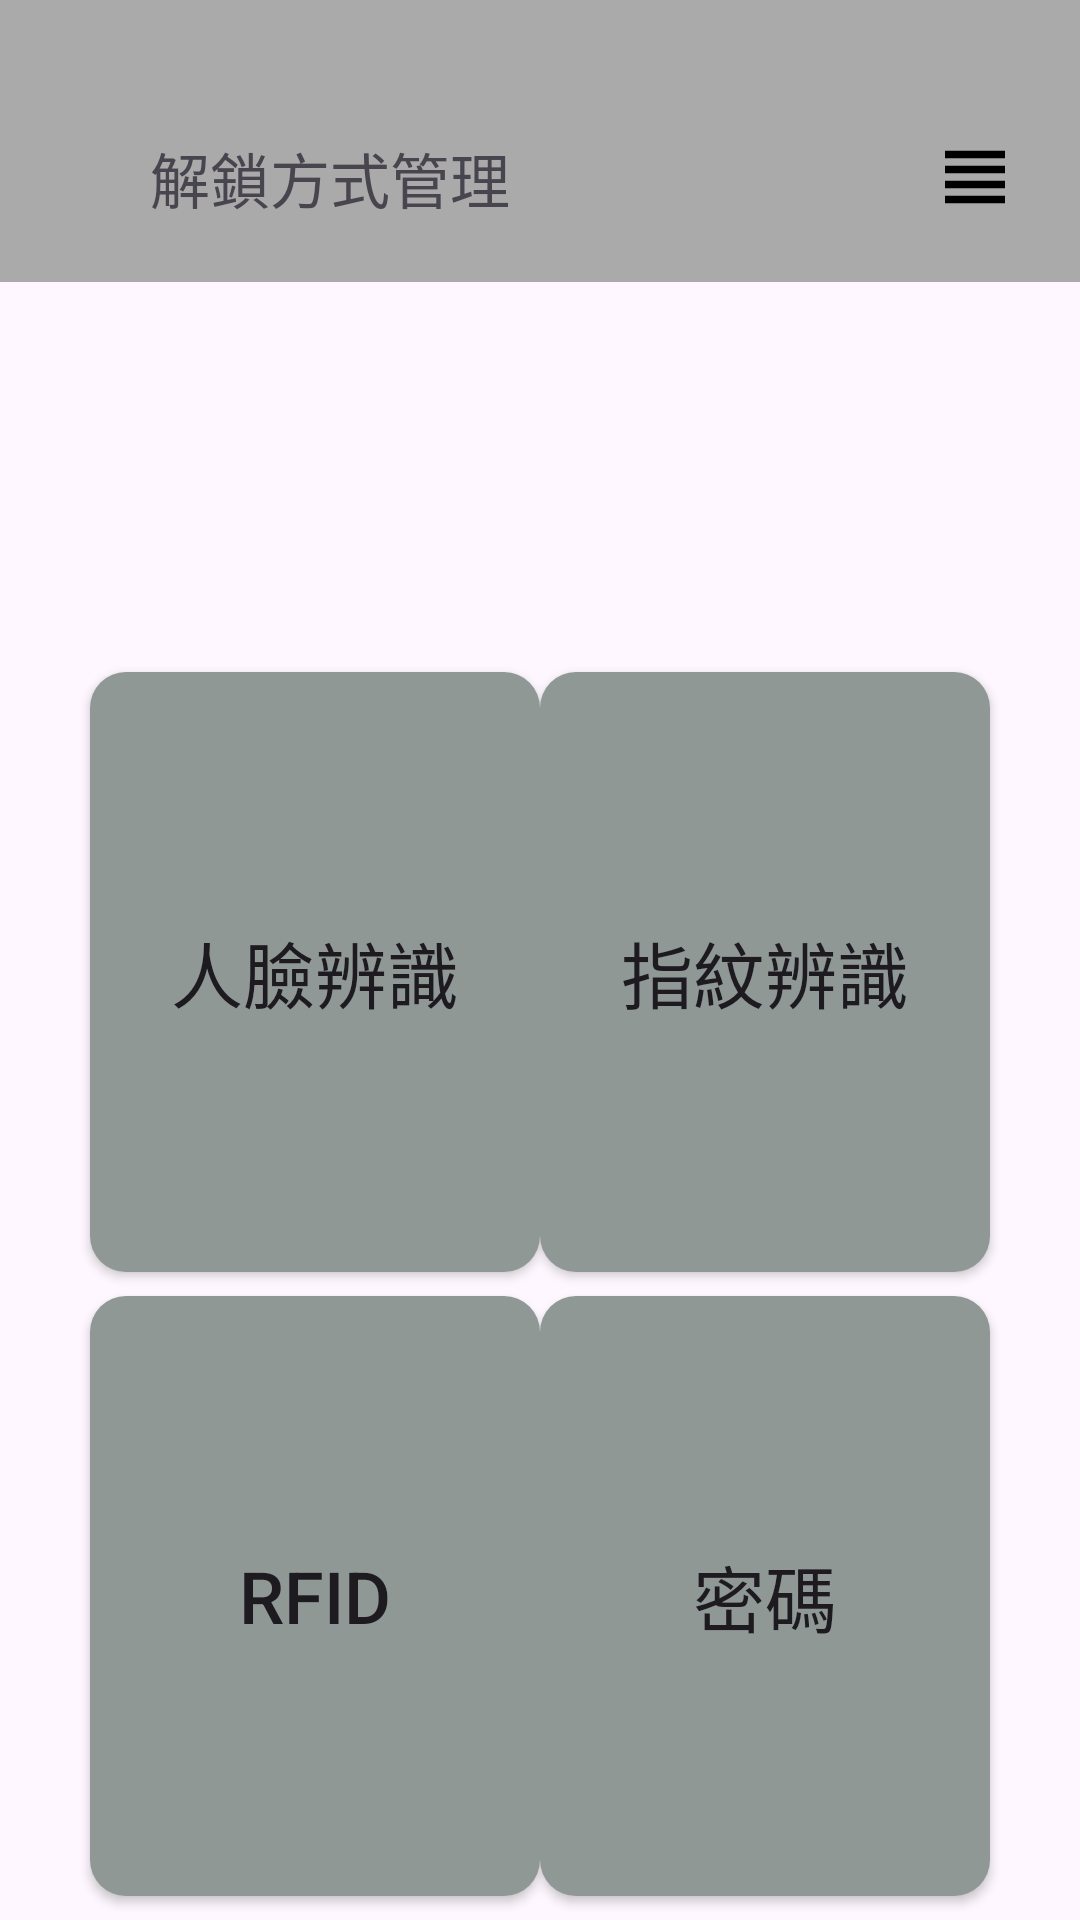

Icons on this 1080×1920 Android screen, each with its box as (x1, y1, x2, y2):
其他: (945, 150, 1005, 204)
